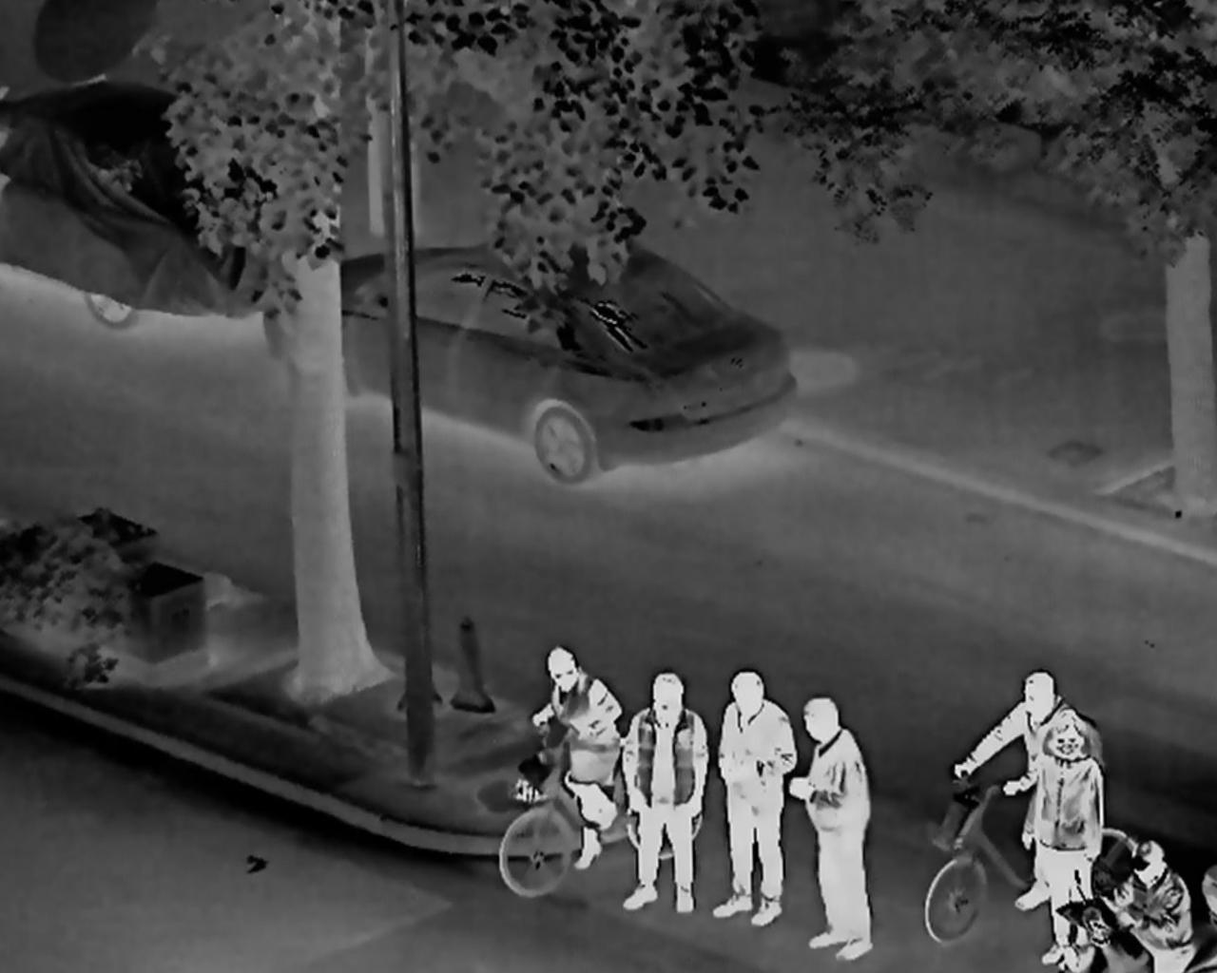person: (956, 670, 1097, 919), (782, 696, 877, 959), (1019, 712, 1109, 969), (618, 670, 707, 918), (712, 672, 796, 929), (532, 646, 622, 870), (1109, 836, 1193, 970)
